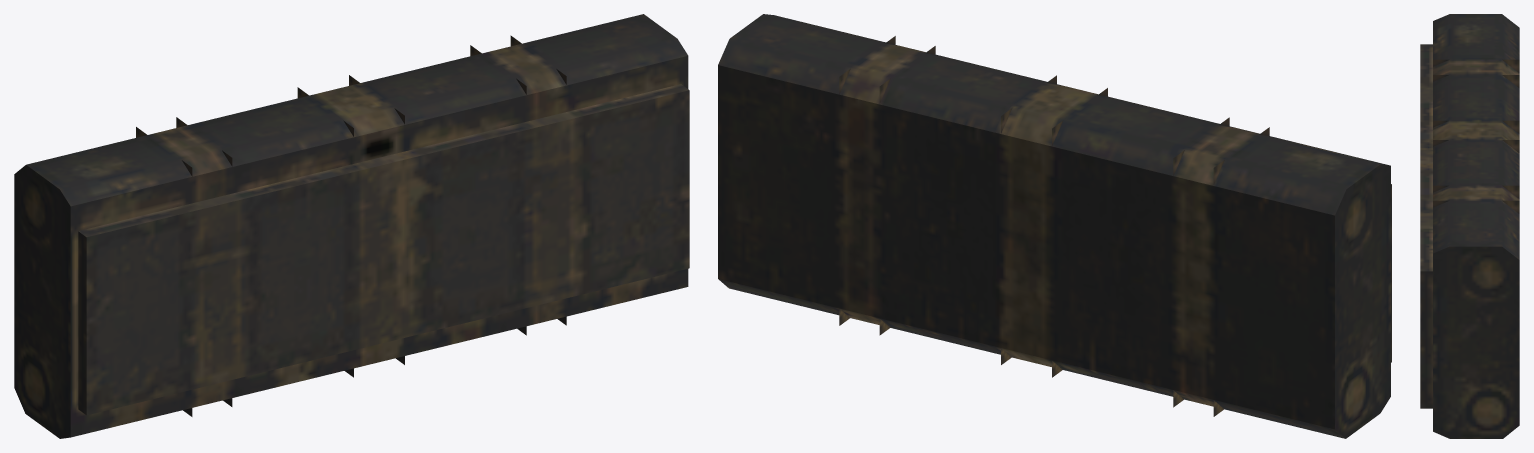
3 views of the same model, side by side, from view 1: azimuth 30°, elevation 25°; view 2: azimuth 150°, elevation 25°; view 3: azimuth 270°, elevation 25° (orthographic). The views are drawn at different scales.
Parts seen in each view (by area): view 1: set_0_group_0; view 2: set_0_group_0; view 3: set_0_group_0.
Boxes of the visible parts, x1,y1,x2,y2 form: set_0_group_0: [14, 14, 689, 438]; set_0_group_0: [718, 14, 1391, 438]; set_0_group_0: [1420, 14, 1519, 438].
Size of the model in its own units: 0.508 by 0.1971 by 0.092.
1 material, 1 textured.
